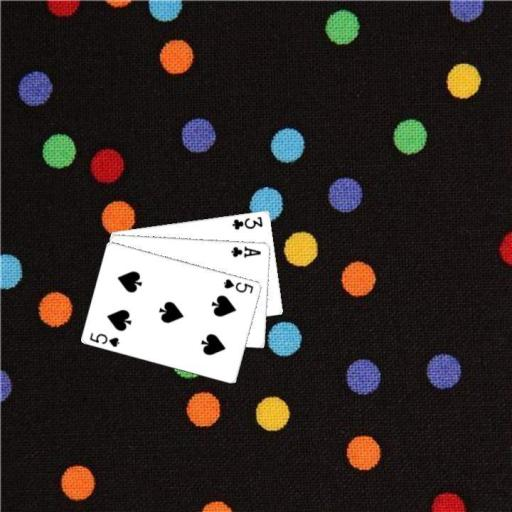3C: (229, 213, 265, 231)
5S: (221, 276, 256, 295), (87, 330, 121, 349)
AC: (229, 242, 263, 259)
